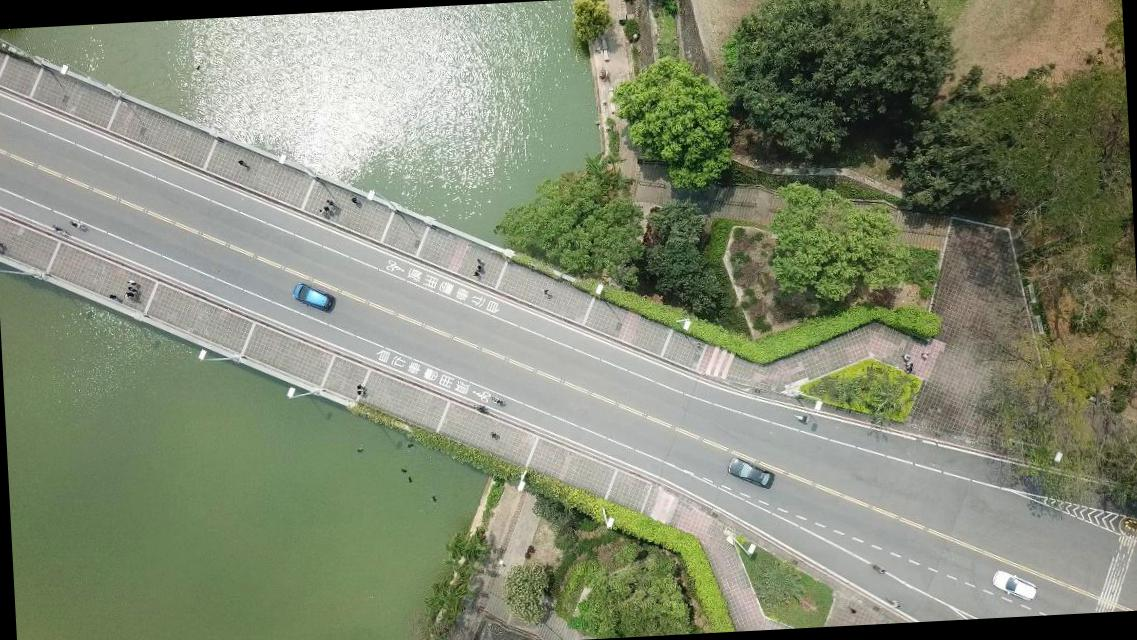vehicle: (725, 452, 775, 492), (990, 565, 1038, 602), (288, 280, 336, 316)
